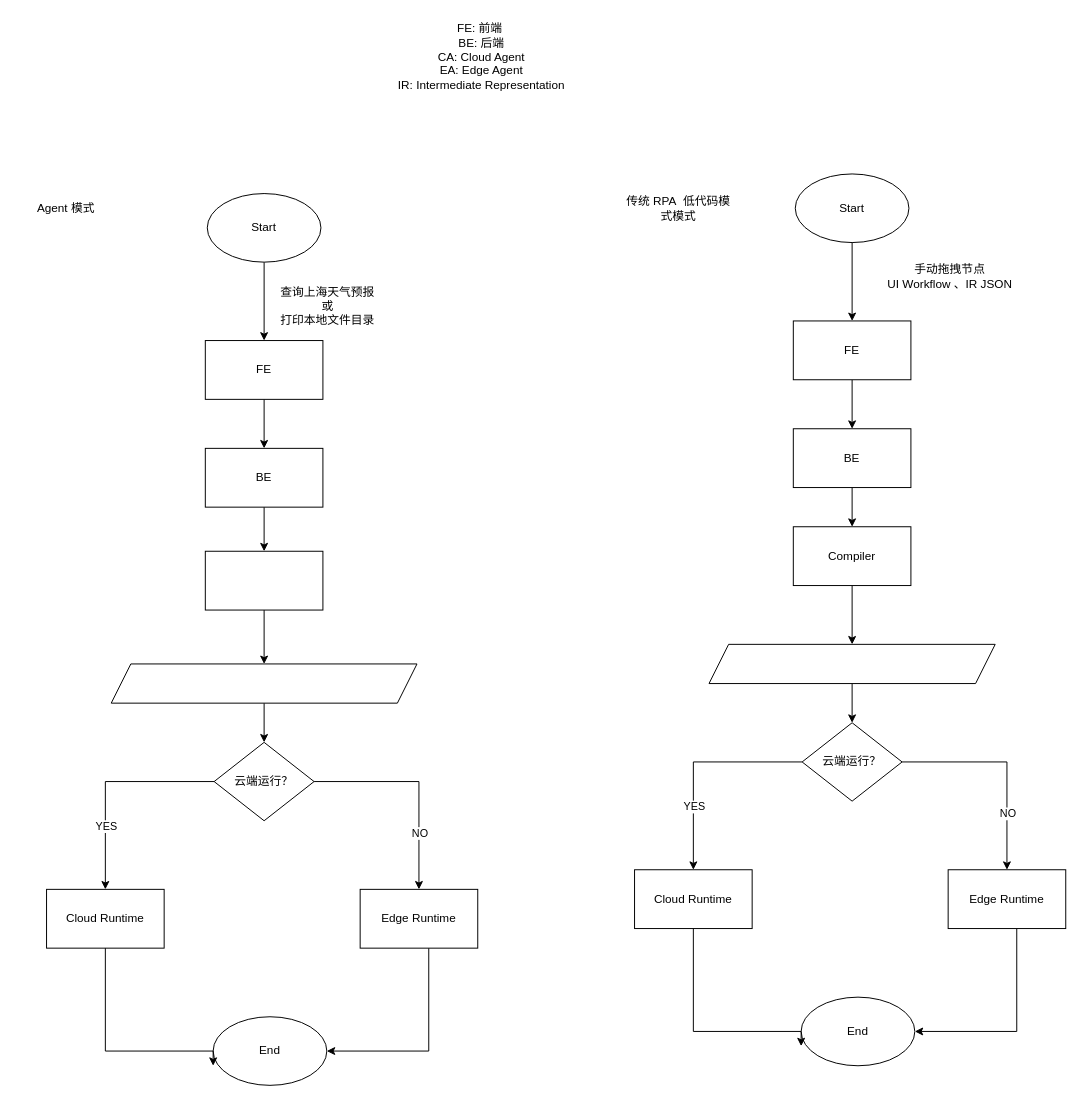
Image size: 1083x1103. Some labels were removed from this diagram. The centre of each missing label's shape, as x and y in pixels:
CA: [263,580]
根据 rpad-api 和 IR JSON 编译成 任意语言代码: [851,663]
根据 rpad-api(metadata.json) + AST(ast.json) 生成 python 代码: [263,683]
